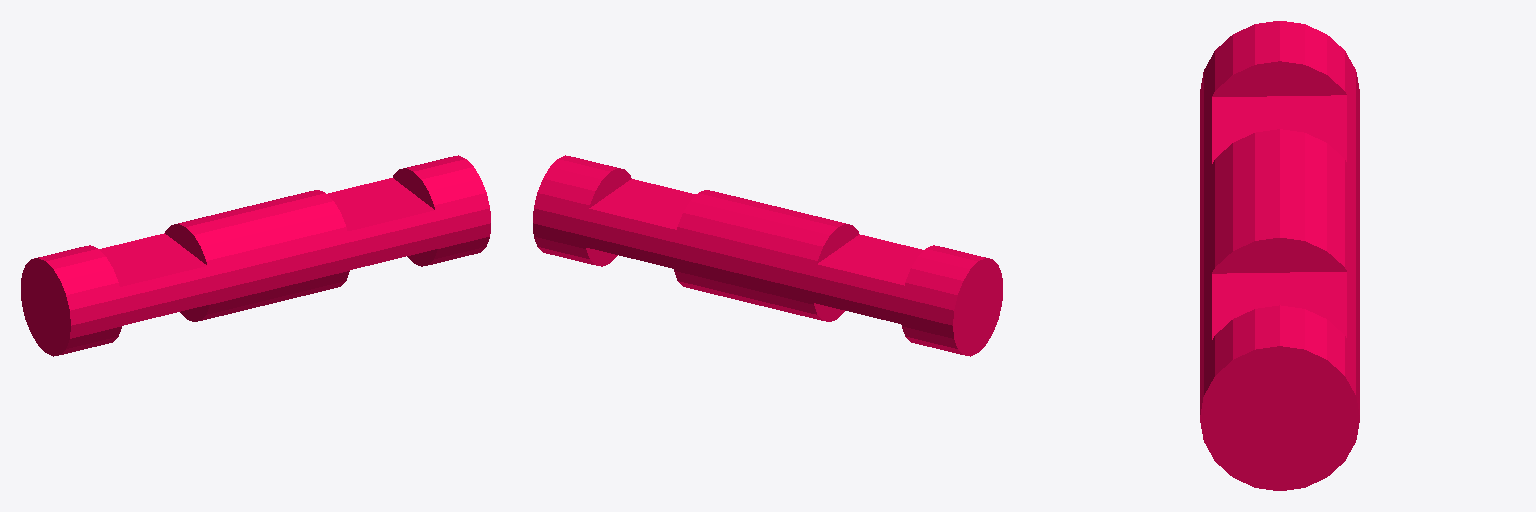
URDF robot description (log.urdf):
<?xml version="0.0" ?>
<robot name="log.urdf">
  <link name="log">
    <contact>
      <lateral_friction value="1.0"/>
      <rolling_friction value="0.0"/>
      <contact_cfm value="0.0"/>
      <contact_erp value="1.0"/>
    </contact>
    <inertial>
      <origin rpy="0 0 0" xyz="0 0 0"/>
       <mass value="0.1"/>
       <inertia ixx="0" ixy="0" ixz="0" iyy="0.00" iyz="0" izz="0.000"/>
    </inertial>
    <visual>
      <!-- <origin rpy="1.570796 0 0" xyz="-0.016 -0.016 -0.0115"/> -->
      <origin rpy="0.000000 0.000000 0.000000" xyz="0 0 0"/>
      <geometry>
        <mesh filename="tinker.obj" scale=".003 .003 .003"/>
      </geometry>
       <material name="yellow">
        <color rgba="1 .04 0.4 1"/>
      </material>
    </visual>
    <collision>
      <!-- <origin rpy="1.570796 0 0" xyz="-0.016 -0.016 -0.0115"/> -->
      <origin rpy="0 0 0" xyz="0.0 0 0"/>
      <geometry>
	 			<!-- <box size="0.032 0.023 0.032"/> -->
        <!-- <box size="0.064 0.040 0.064"/> -->
        <mesh filename="tinker2.obj" scale=".003 .003 .003"/>
      </geometry>
    </collision>
    <collision>
      <!-- <origin rpy="1.570796 0 0" xyz="-0.016 -0.016 -0.0115"/> -->
      <origin rpy="0 0 0" xyz="0.0 0 0"/>
      <geometry>
        <!-- <box size="0.032 0.023 0.032"/> -->
        <!-- <box size="0.064 0.040 0.064"/> -->
        <mesh filename="tinker3.obj" scale=".003 .003 .003"/>
      </geometry>
    </collision>
    <collision>
      <!-- <origin rpy="1.570796 0 0" xyz="-0.016 -0.016 -0.0115"/> -->
      <origin rpy="0 0 0" xyz="0.0 0 0"/>
      <geometry>
        <!-- <box size="0.032 0.023 0.032"/> -->
        <!-- <box size="0.064 0.040 0.064"/> -->
        <mesh filename="tinker4.obj" scale=".003 .003 .003"/>
      </geometry>
    </collision>
    <collision>
      <!-- <origin rpy="1.570796 0 0" xyz="-0.016 -0.016 -0.0115"/> -->
      <origin rpy="0 0 0" xyz="0.0 0 0"/>
      <geometry>
        <!-- <box size="0.032 0.023 0.032"/> -->
        <!-- <box size="0.064 0.040 0.064"/> -->
        <mesh filename="tinker5.obj" scale=".003 .003 .003"/>
      </geometry>
    </collision>
    <collision>
      <!-- <origin rpy="1.570796 0 0" xyz="-0.016 -0.016 -0.0115"/> -->
      <origin rpy="0 0 0" xyz="0.0 0 0"/>
      <geometry>
        <!-- <box size="0.032 0.023 0.032"/> -->
        <!-- <box size="0.064 0.040 0.064"/> -->
        <mesh filename="tinker6.obj" scale=".003 .003 .003"/>
      </geometry>
    </collision>
  </link>
</robot>

--- Render facts (derived) ---
Views: 3 orthographic renders of the robot side by side, from view 1: azimuth 30°, elevation 25°; view 2: azimuth 150°, elevation 25°; view 3: azimuth 270°, elevation 25°.
Model log.urdf with 1 links and 0 joints (none), rooted at log, posed all joints at 0.
Visible links, largest first — view 1: log; view 2: log; view 3: log.
Boxes of the visible links, x1=… form: log: x1=21, y1=155, x2=490, y2=356; log: x1=533, y1=155, x2=1002, y2=356; log: x1=1200, y1=21, x2=1359, y2=490.
Bounding box of the posed robot: 0.288 × 0.06 × 0.06 m (x, y, z).
1 mesh visuals loaded from 1 distinct referenced files (1 OBJ).